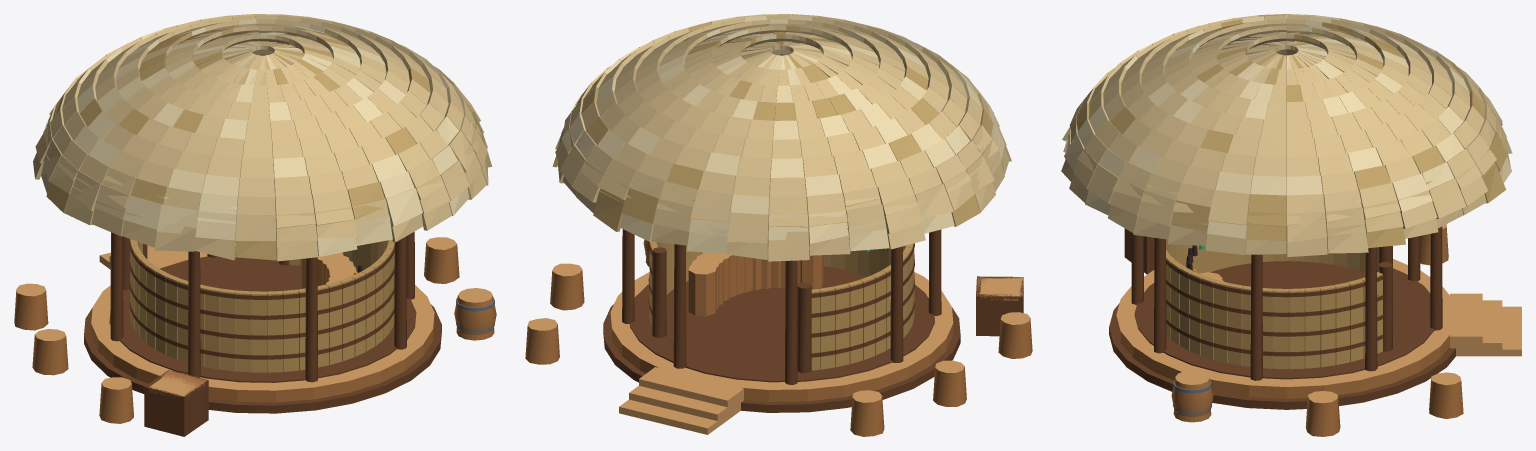
File: building_bar_hut.obj
3 views of the same model, side by side, from view 1: azimuth 30°, elevation 25°; view 2: azimuth 150°, elevation 25°; view 3: azimuth 270°, elevation 25° (orthographic).
Parts seen in each view (by area): view 1: building_bar_hut_thatch_mid, building_bar_hut_wood_dark, building_bar_hut_thatch_light, building_bar_hut_wicker, building_bar_hut_wood_mid, building_bar_hut_wood_light, building_bar_hut_thatch_dark; view 2: building_bar_hut_thatch_mid, building_bar_hut_wood_dark, building_bar_hut_thatch_light, building_bar_hut_wood_mid, building_bar_hut_wood_light, building_bar_hut_wicker, building_bar_hut_thatch_dark; view 3: building_bar_hut_thatch_mid, building_bar_hut_wood_dark, building_bar_hut_wicker, building_bar_hut_thatch_light, building_bar_hut_wood_light, building_bar_hut_thatch_dark, building_bar_hut_wood_mid.
Boxes of the visible parts, left/top/right/bottom form: building_bar_hut_thatch_mid: left=33, top=14, right=492, bottom=261; building_bar_hut_wood_dark: left=84, top=54, right=441, bottom=436; building_bar_hut_thatch_light: left=41, top=19, right=483, bottom=256; building_bar_hut_wicker: left=130, top=239, right=394, bottom=372; building_bar_hut_wood_mid: left=14, top=243, right=496, bottom=423; building_bar_hut_wood_light: left=16, top=237, right=492, bottom=396; building_bar_hut_thatch_dark: left=46, top=28, right=485, bottom=260; building_bar_hut_thatch_mid: left=555, top=14, right=1011, bottom=261; building_bar_hut_wood_dark: left=603, top=54, right=1023, bottom=412; building_bar_hut_thatch_light: left=561, top=15, right=1006, bottom=253; building_bar_hut_wood_mid: left=525, top=239, right=1032, bottom=436; building_bar_hut_wood_light: left=528, top=252, right=1030, bottom=434; building_bar_hut_wicker: left=649, top=241, right=914, bottom=370; building_bar_hut_thatch_dark: left=552, top=21, right=993, bottom=231; building_bar_hut_thatch_mid: left=1061, top=14, right=1510, bottom=256; building_bar_hut_wood_dark: left=1109, top=54, right=1455, bottom=409; building_bar_hut_wicker: left=1166, top=239, right=1382, bottom=369; building_bar_hut_thatch_light: left=1063, top=15, right=1512, bottom=238; building_bar_hut_wood_light: left=1116, top=224, right=1521, bottom=403; building_bar_hut_thatch_dark: left=1070, top=14, right=1507, bottom=248; building_bar_hut_wood_mid: left=1116, top=224, right=1463, bottom=436.
Size of the model in its own units: 6.57 by 4.33 by 6.35.
